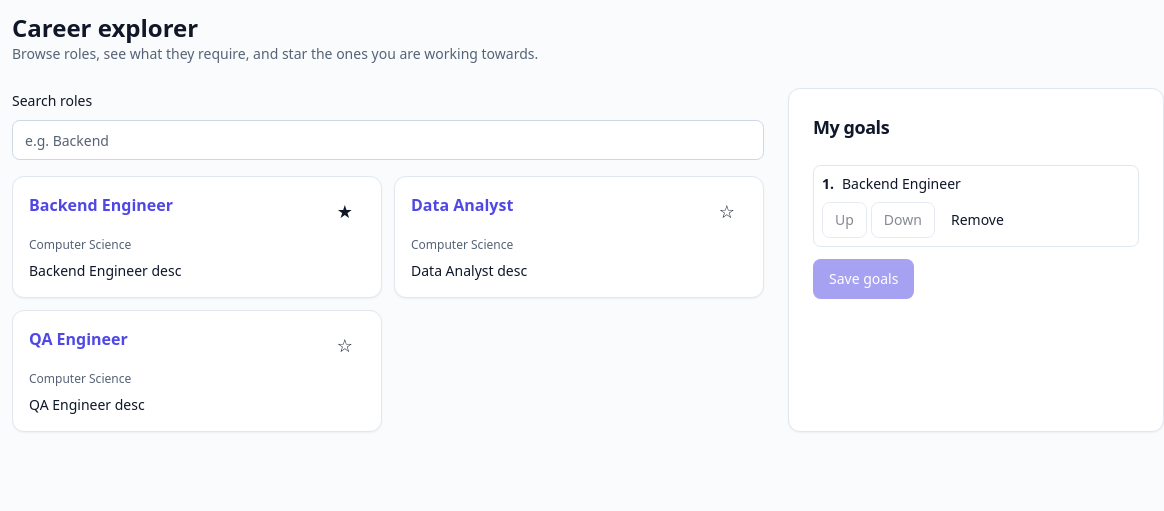
Test case: CareersPage › toggles goals, reorders them and saves the new priorities
The image size is (1164, 511).
Expected: the link "Data Analyst" is shown, [411,193,513,217]
Click the button named "Add Data Analyst to my goals" at (727, 211), box [707,193,747,229]
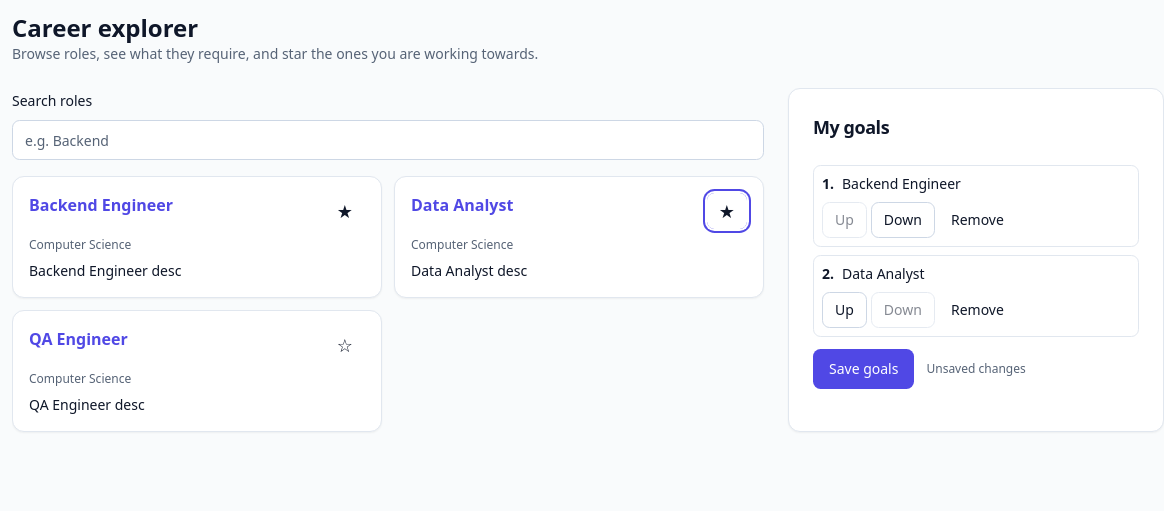
Result: the text "Unsaved changes" is shown at [926,361,1026,377]
Click the button with aria-label "Move Data Analyst up" at (844, 310), box [822,292,867,328]
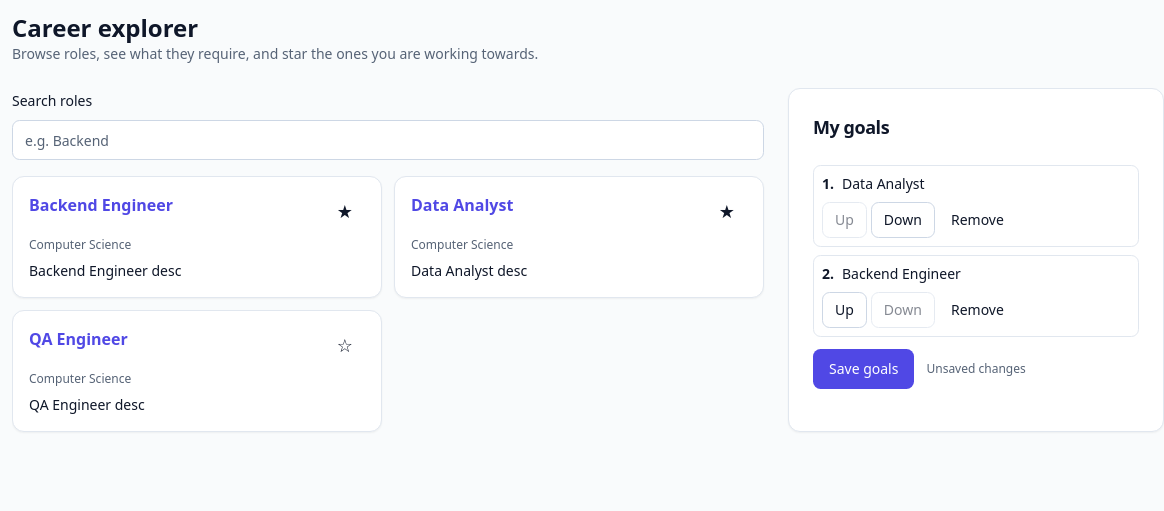
Result: the list item "1.Data Analyst Up Down Remove" is shown at [813,165,1139,247]
Click the button "Save goals" at (864, 369), box [813,349,914,389]
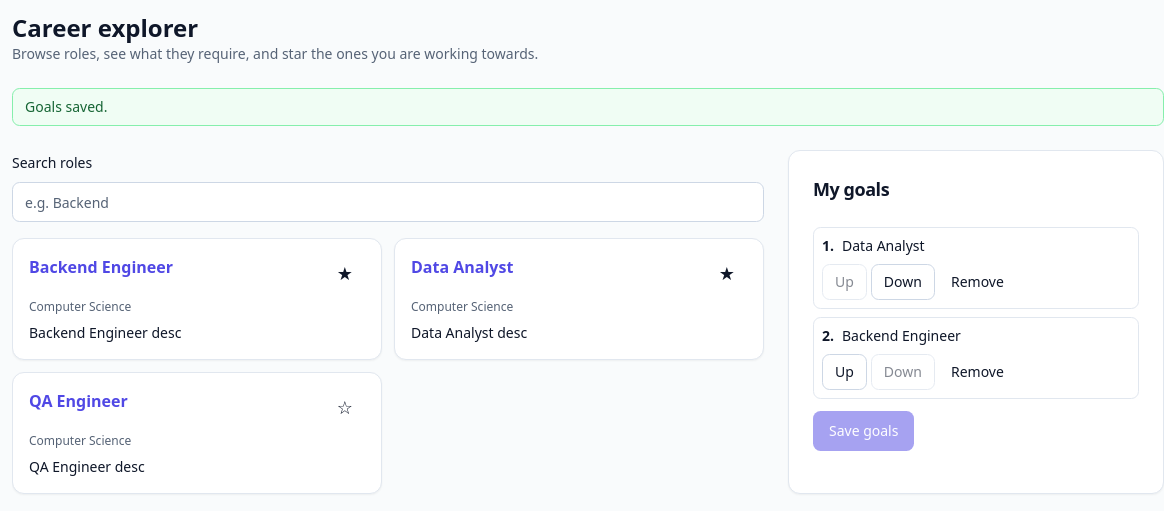
Result: the text "Goals saved." is shown at [12,88,1163,126]
Result: the button "Save goals" is disabled at [813,411,914,451]
